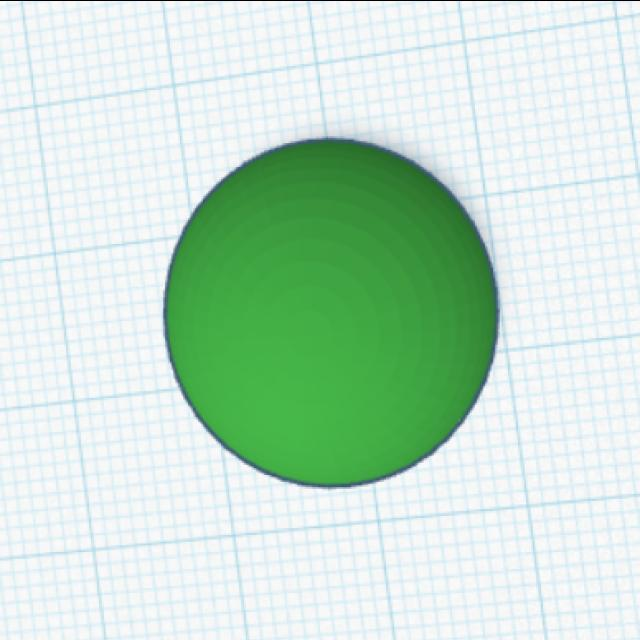sphere: (160, 134, 502, 492)
